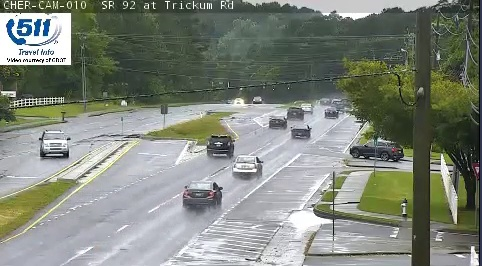car: (183, 181, 222, 207), (232, 155, 262, 177), (206, 134, 233, 154), (291, 123, 310, 138), (287, 106, 304, 120), (269, 115, 287, 128)
